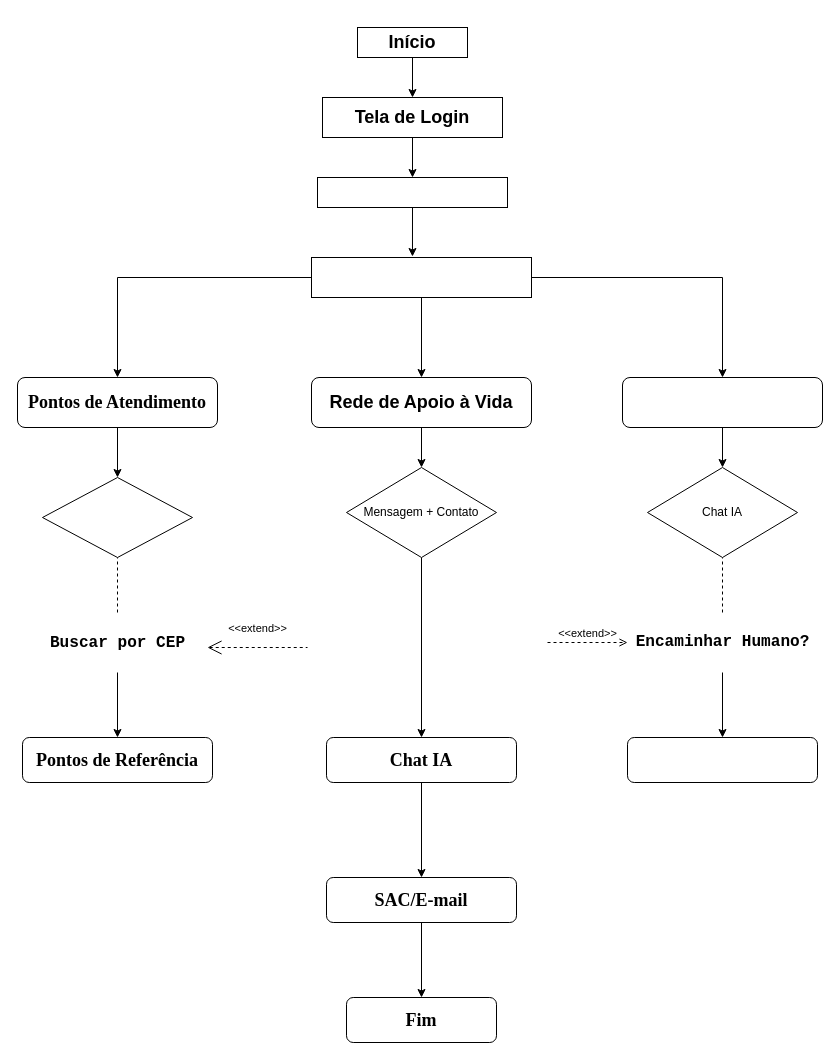
The diagram is 840 pixels wide and 1063 high, and some of its shapes have lost their labels. Each missing label, with the centre of its shape:
"Assistente Humano" belongs at (722,759).
"Assistente Virtual" belongs at (722,402).
"Ativar GPS?" belongs at (117,517).
"Login/Cadastro" belongs at (412,192).
"Menu Principal" belongs at (421,277).
